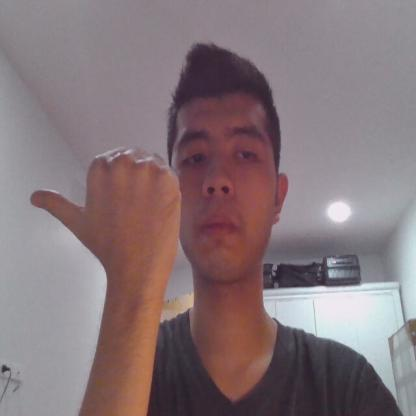right: (31, 145, 186, 282)
